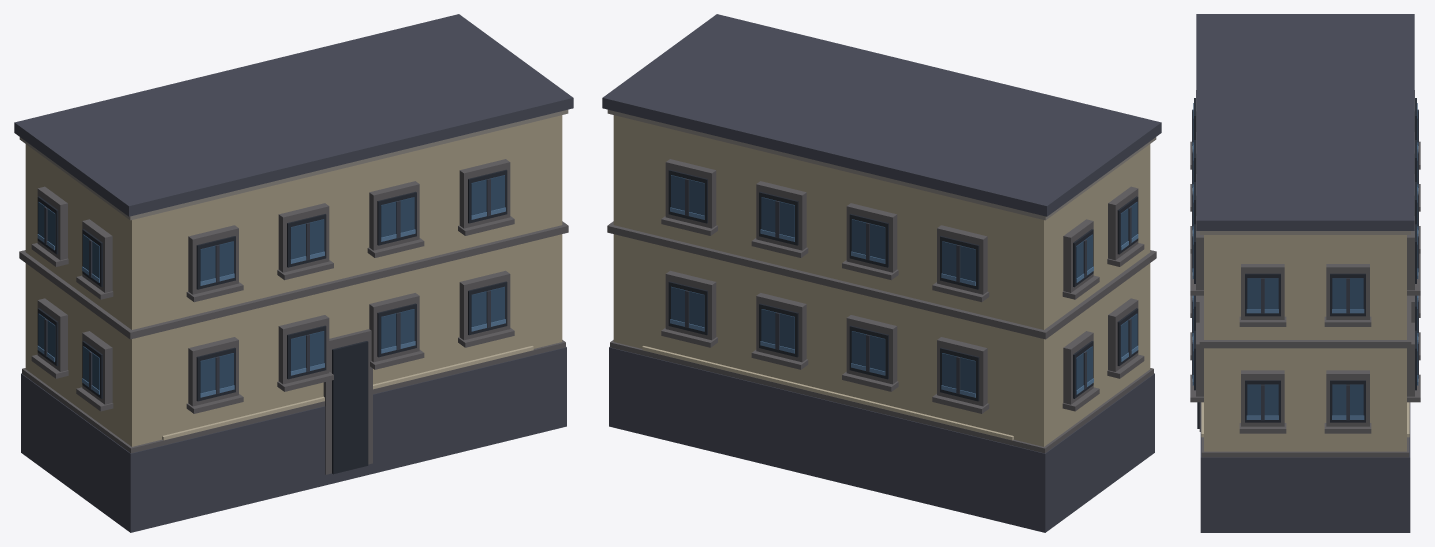
The model's file is LongTownhouse.obj.
3 views of the same model, side by side, from view 1: azimuth 30°, elevation 25°; view 2: azimuth 150°, elevation 25°; view 3: azimuth 270°, elevation 25° (orthographic). The views are drawn at different scales.
Visible parts, largest first — view 1: LongTownhouse; view 2: LongTownhouse; view 3: LongTownhouse.
Boxes of the visible parts, x1,y1,x2,y2 form: LongTownhouse: [14, 14, 573, 532]; LongTownhouse: [602, 14, 1161, 532]; LongTownhouse: [1190, 14, 1420, 532].
Size of the model in its own units: 2.13 by 1.47 by 0.978.
